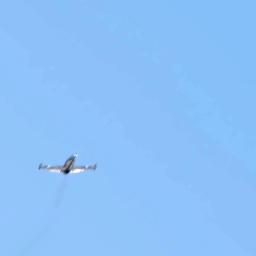Airplane: (36, 152, 99, 176)
